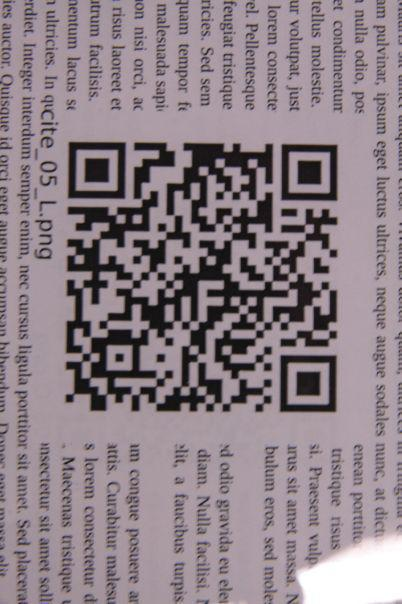Finder pattern: (60, 136, 134, 206), (273, 350, 343, 419), (278, 138, 344, 207)
